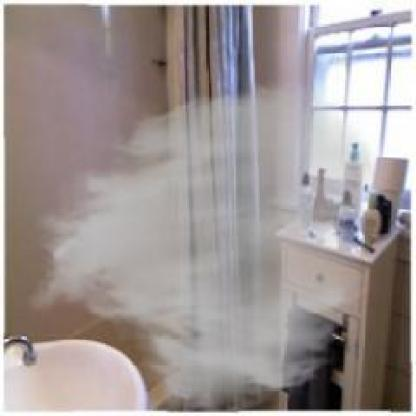Smoke: (26, 78, 385, 414)
